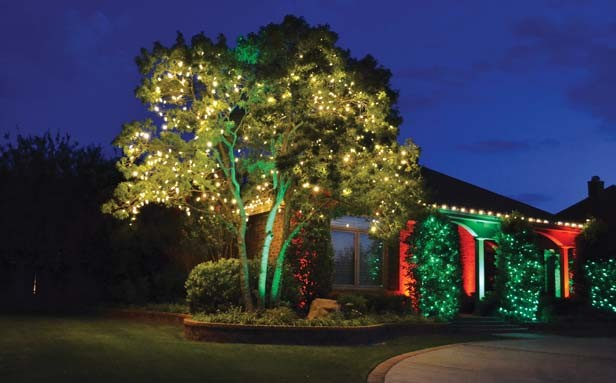tree: (103, 17, 424, 312)
